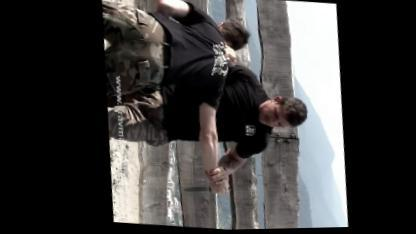knife: (174, 179, 228, 200)
